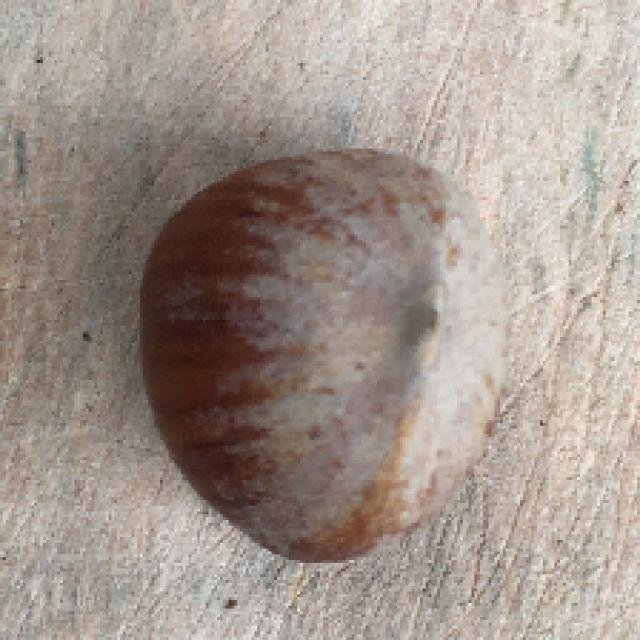qualityHazelnut: (134, 141, 516, 561)
